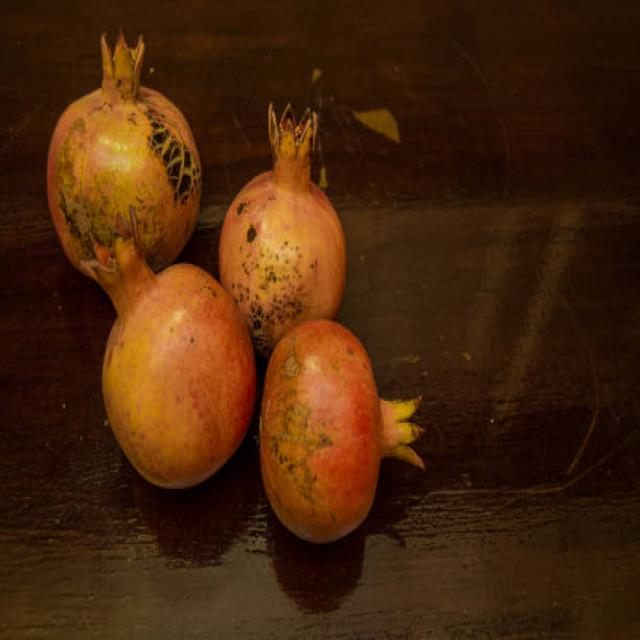overripe: (88, 208, 256, 493), (257, 318, 426, 550), (42, 30, 209, 260), (212, 103, 348, 320)
